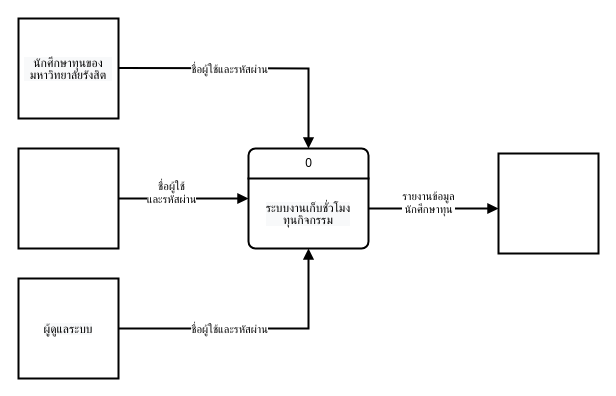
The diagram is 616 pixels wide and 396 high, and some of its shapes have lost their labels. The shapes that lost their labels are listed below. From the top down, each one's centre as x and y in pixels, then its label:
At point (68, 198): "อาจารย์หรือ หน่วยงานที่จัดกิจกรรม".
At point (548, 203): "ศูนย์นักศึกษาทุน แห่งมหาวิทยาลัยรังสิต".
